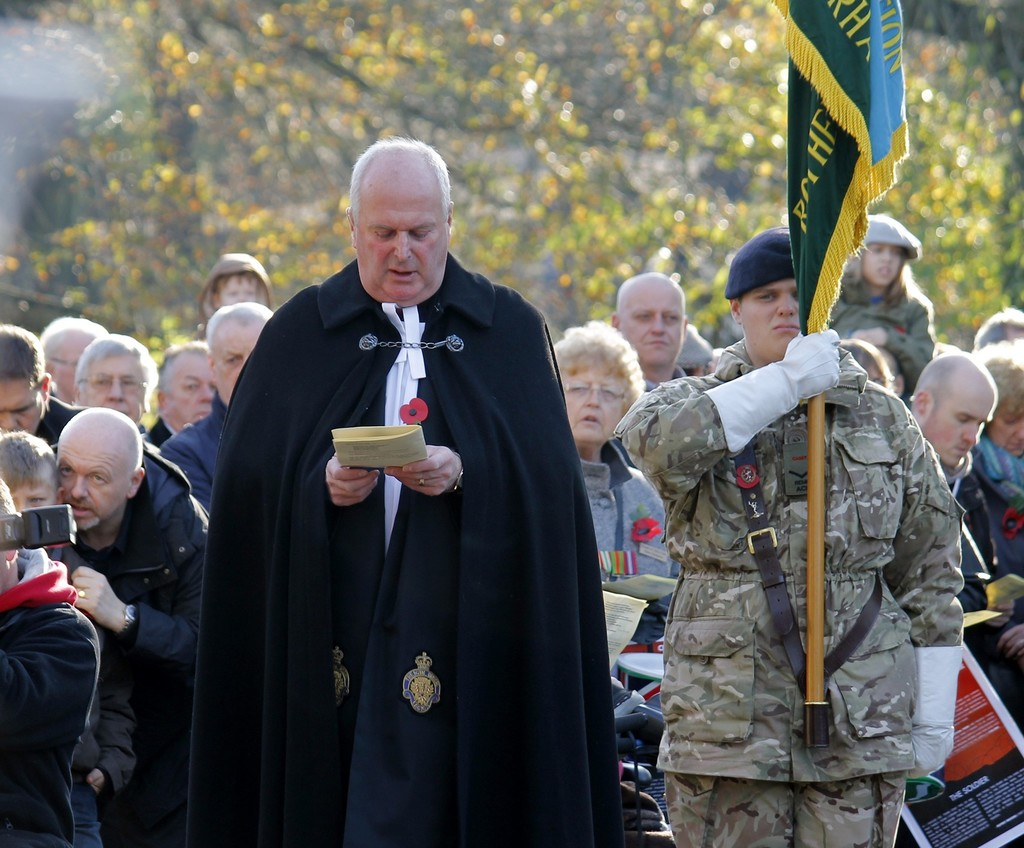Person: (0, 134, 1024, 848)
